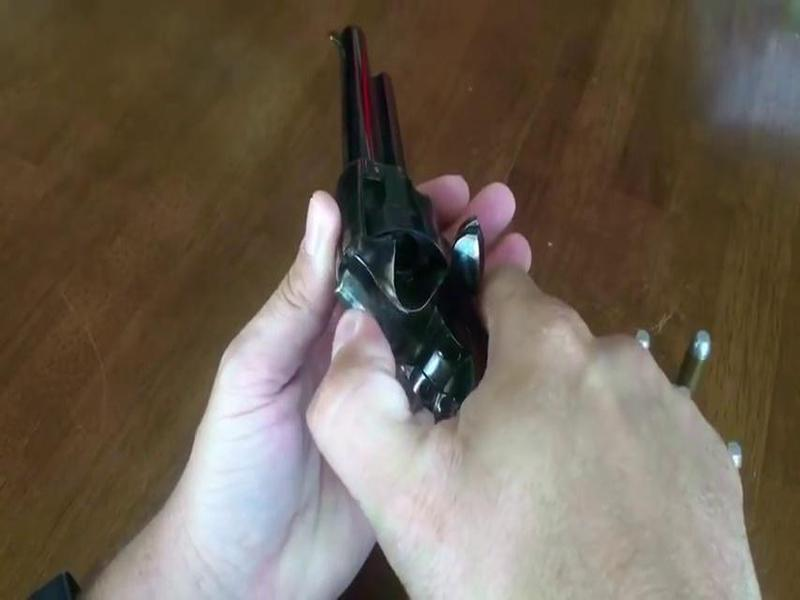Revolver: (294, 14, 504, 431)
